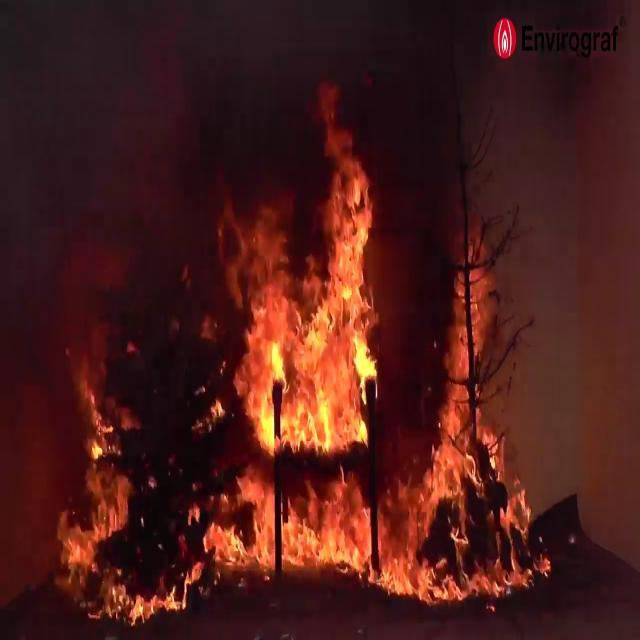Fire: (203, 87, 400, 587), (388, 238, 553, 608), (34, 382, 189, 631)
Smoke: (1, 0, 259, 372)
